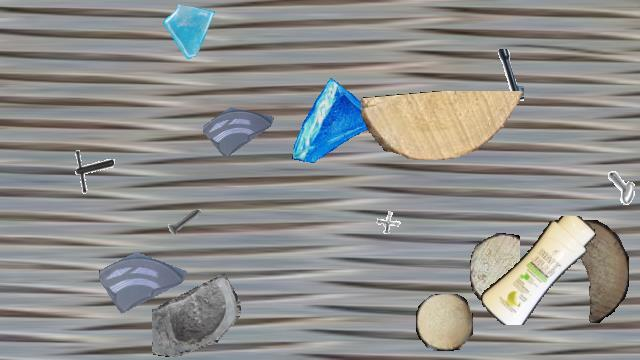glass: (290, 77, 384, 171), (152, 271, 240, 359), (99, 234, 187, 322), (203, 91, 275, 163), (162, 1, 220, 59)
metal: (466, 49, 524, 107), (66, 147, 114, 195), (607, 152, 640, 206), (164, 201, 206, 243), (370, 203, 410, 243)
plastic: (478, 216, 600, 324)
wood: (361, 91, 527, 159), (557, 220, 629, 322), (470, 233, 520, 305), (416, 294, 472, 350)
